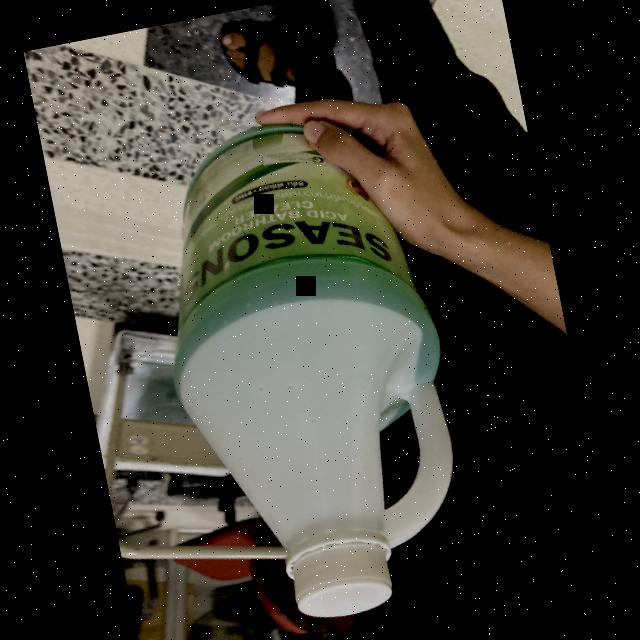chemical_plastic_gallon: (128, 104, 484, 640)
